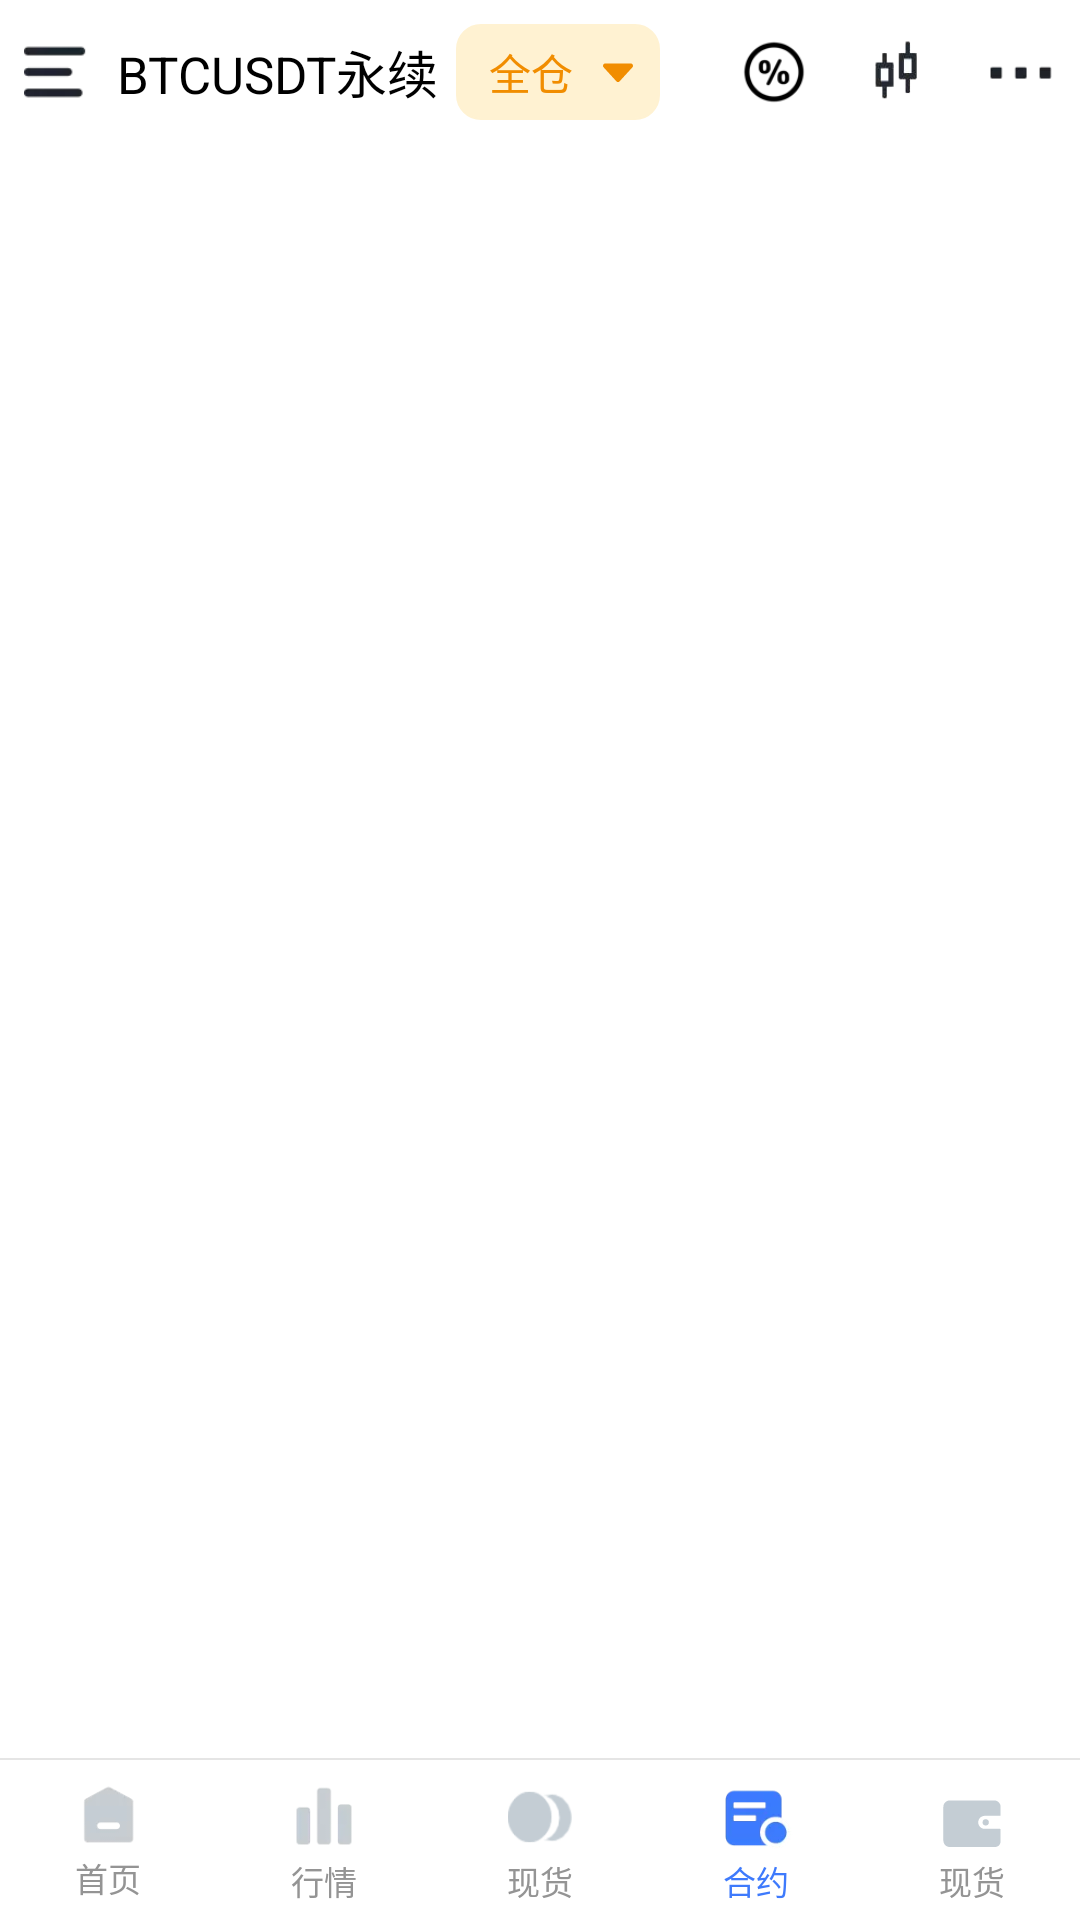

Icon bounding boxes for this 1080 x 1920 phone screenshot, format bbox(x1, y1, x2, y2):
res more: bbox(990, 66, 1052, 79)
